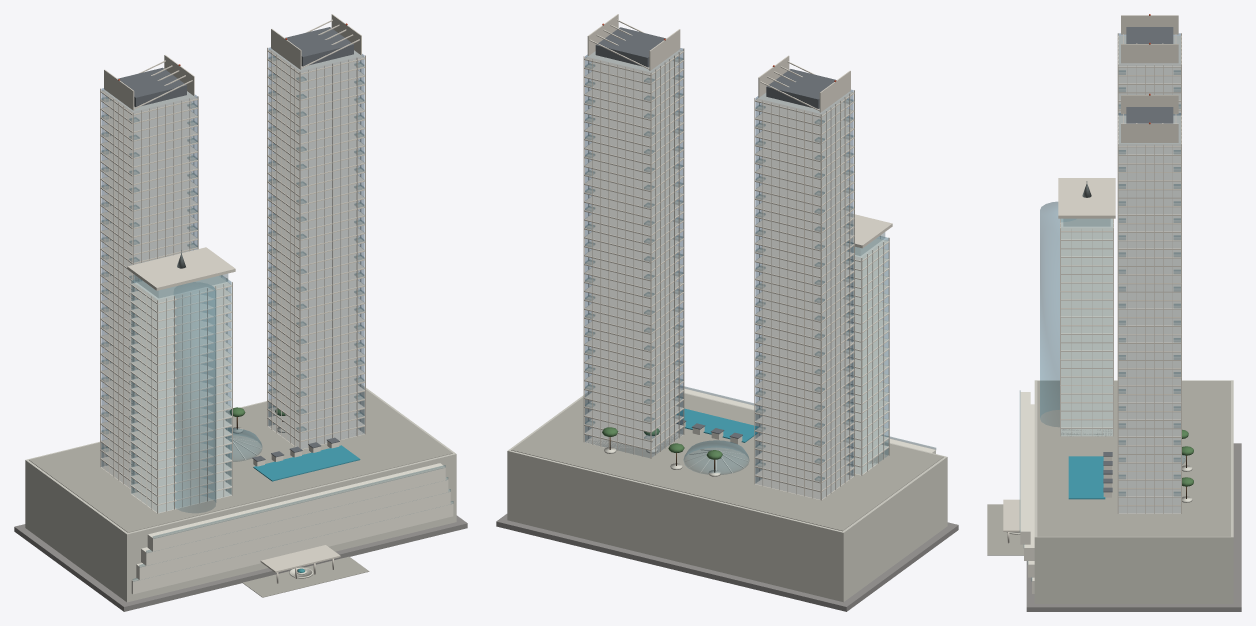
File: one_galle_face.glb
3 renders of one model, left to right at view 1: azimuth 30°, elevation 25°; view 2: azimuth 150°, elevation 25°; view 3: azimuth 270°, elevation 25°, orthographic. The views are drawn at different scales.
Parts seen in each view (by area): view 1: 02 Twin residential towers (The Residences) / Champagne Meta, 02 Twin residential towers (The Residences) / Deep Blue Glas, 03 Shangri-La Hotel tower / Ivory, 01 Mall podium, atrium and terraces / Ivory, 03 Shangri-La Hotel tower / Ocean Glass, 04 Rooftop sky park, infinity pools & canopies / Paving, 01 Mall podium, atrium and terraces / Limestone, 03 Shangri-La Hotel tower / Ocean Glass.001, 01 Mall podium, atrium and terraces / Granite Base, 05 Architectural crowns, fins and mechanical penthouses / Da, 02 Twin residential towers (The Residences) / Glass, 05 Architectural crowns, fins and mechanical penthouses / Ch (+7 smaller); view 2: 02 Twin residential towers (The Residences) / Champagne Meta, 02 Twin residential towers (The Residences) / Deep Blue Glas, 01 Mall podium, atrium and terraces / Limestone, 04 Rooftop sky park, infinity pools & canopies / Paving, 03 Shangri-La Hotel tower / Ivory, 03 Shangri-La Hotel tower / Ocean Glass, 01 Mall podium, atrium and terraces / Granite Base, 02 Twin residential towers (The Residences) / Glass, 05 Architectural crowns, fins and mechanical penthouses / Da, 05 Architectural crowns, fins and mechanical penthouses / Ch, 01 Mall podium, atrium and terraces / Ocean Glass, 04 Rooftop sky park, infinity pools & canopies / Ocean Pool (+2 smaller); view 3: 02 Twin residential towers (The Residences) / Champagne Meta, 02 Twin residential towers (The Residences) / Deep Blue Glas, 04 Rooftop sky park, infinity pools & canopies / Paving, 01 Mall podium, atrium and terraces / Limestone, 03 Shangri-La Hotel tower / Ivory, 03 Shangri-La Hotel tower / Ocean Glass, 03 Shangri-La Hotel tower / Ocean Glass.001, 05 Architectural crowns, fins and mechanical penthouses / Ch, 01 Mall podium, atrium and terraces / Granite Base, 01 Mall podium, atrium and terraces / Ivory, 03 Shangri-La Hotel tower / Champagne Metal, 05 Architectural crowns, fins and mechanical penthouses / Da (+5 smaller).
Part boxes in pixels (x1=…): 02 Twin residential towers (The Residences) / Champagne Meta: x1=100, y1=47, x2=365, y2=490; 02 Twin residential towers (The Residences) / Deep Blue Glas: x1=101, y1=47, x2=364, y2=487; 03 Shangri-La Hotel tower / Ivory: x1=130, y1=275, x2=232, y2=513; 01 Mall podium, atrium and terraces / Ivory: x1=131, y1=463, x2=453, y2=594; 03 Shangri-La Hotel tower / Ocean Glass: x1=131, y1=275, x2=231, y2=512; 04 Rooftop sky park, infinity pools & canopies / Paving: x1=29, y1=384, x2=452, y2=532; 01 Mall podium, atrium and terraces / Limestone: x1=25, y1=384, x2=456, y2=602; 03 Shangri-La Hotel tower / Ocean Glass.001: x1=174, y1=286, x2=215, y2=512; 01 Mall podium, atrium and terraces / Granite Base: x1=14, y1=515, x2=467, y2=611; 05 Architectural crowns, fins and mechanical penthouses / Da: x1=118, y1=27, x2=353, y2=107; 02 Twin residential towers (The Residences) / Glass: x1=101, y1=56, x2=364, y2=469; 05 Architectural crowns, fins and mechanical penthouses / Ch: x1=104, y1=14, x2=361, y2=110; 02 Twin residential towers (The Residences) / Champagne Meta: x1=583, y1=48, x2=854, y2=500; 02 Twin residential towers (The Residences) / Deep Blue Glas: x1=585, y1=48, x2=853, y2=499; 01 Mall podium, atrium and terraces / Limestone: x1=507, y1=391, x2=947, y2=602; 04 Rooftop sky park, infinity pools & canopies / Paving: x1=511, y1=392, x2=943, y2=531; 03 Shangri-La Hotel tower / Ivory: x1=847, y1=235, x2=889, y2=475; 03 Shangri-La Hotel tower / Ocean Glass: x1=855, y1=236, x2=888, y2=474; 01 Mall podium, atrium and terraces / Granite Base: x1=496, y1=514, x2=958, y2=611; 02 Twin residential towers (The Residences) / Glass: x1=585, y1=57, x2=853, y2=481; 05 Architectural crowns, fins and mechanical penthouses / Da: x1=595, y1=27, x2=836, y2=108; 05 Architectural crowns, fins and mechanical penthouses / Ch: x1=587, y1=14, x2=850, y2=112; 01 Mall podium, atrium and terraces / Ocean Glass: x1=684, y1=440, x2=748, y2=474; 04 Rooftop sky park, infinity pools & canopies / Ocean Pool: x1=677, y1=408, x2=758, y2=442; 02 Twin residential towers (The Residences) / Champagne Meta: x1=1117, y1=33, x2=1181, y2=513; 02 Twin residential towers (The Residences) / Deep Blue Glas: x1=1118, y1=33, x2=1180, y2=513; 04 Rooftop sky park, infinity pools & canopies / Paving: x1=1037, y1=381, x2=1230, y2=536; 01 Mall podium, atrium and terraces / Limestone: x1=1034, y1=380, x2=1233, y2=603; 03 Shangri-La Hotel tower / Ivory: x1=1060, y1=218, x2=1113, y2=436; 03 Shangri-La Hotel tower / Ocean Glass: x1=1061, y1=219, x2=1112, y2=435; 03 Shangri-La Hotel tower / Ocean Glass.001: x1=1040, y1=202, x2=1062, y2=426; 05 Architectural crowns, fins and mechanical penthouses / Ch: x1=1121, y1=15, x2=1178, y2=142; 01 Mall podium, atrium and terraces / Granite Base: x1=1026, y1=443, x2=1241, y2=611; 01 Mall podium, atrium and terraces / Ivory: x1=1020, y1=392, x2=1034, y2=593; 03 Shangri-La Hotel tower / Champagne Metal: x1=1058, y1=178, x2=1115, y2=218; 05 Architectural crowns, fins and mechanical penthouses / Da: x1=1126, y1=27, x2=1173, y2=123.
Bounding box in the file's own units: 148 × 195 × 97.
